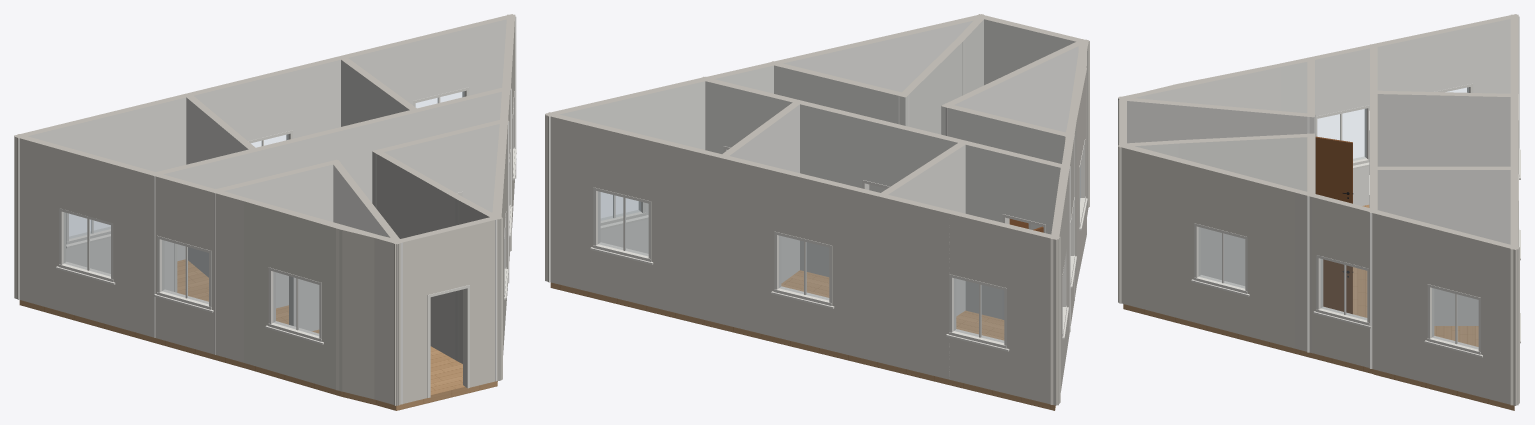
Rendered from exotic-house_s.glb.
3 renders of one model, left to right at view 1: azimuth 30°, elevation 25°; view 2: azimuth 150°, elevation 25°; view 3: azimuth 270°, elevation 25°, orthographic. The views are drawn at different scales.
Visible parts, largest first — view 1: Ground Floor; view 2: Ground Floor; view 3: Ground Floor.
Boxes of the visible parts, left/top/right/bottom form: Ground Floor: left=14, top=14, right=516, bottom=410; Ground Floor: left=545, top=14, right=1089, bottom=410; Ground Floor: left=1118, top=14, right=1520, bottom=410.
Bounding box in the file's own units: 10.87 × 3.51 × 7.84.
9 materials, 1 textured.
